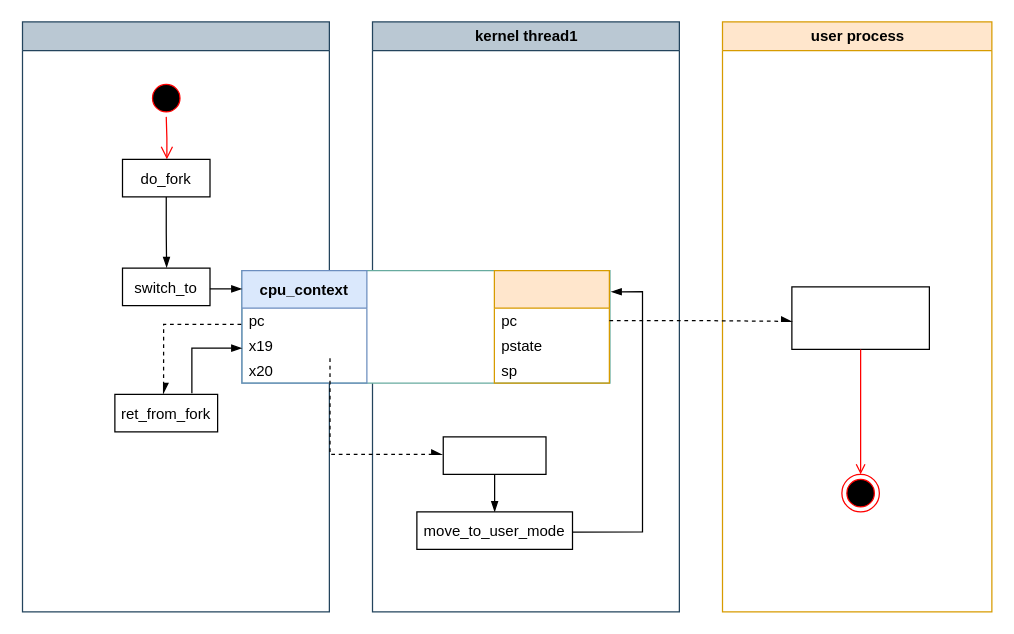
The diagram is 1014 pixels wide and 634 high, and some of its shapes have lost their labels. Each missing label, with the box of its shape:
Kernal main: (21, 21, 329, 612)
kernel_thread: (442, 436, 546, 474)
pt_regs: (493, 269, 609, 383)
user_process: (791, 286, 929, 349)
